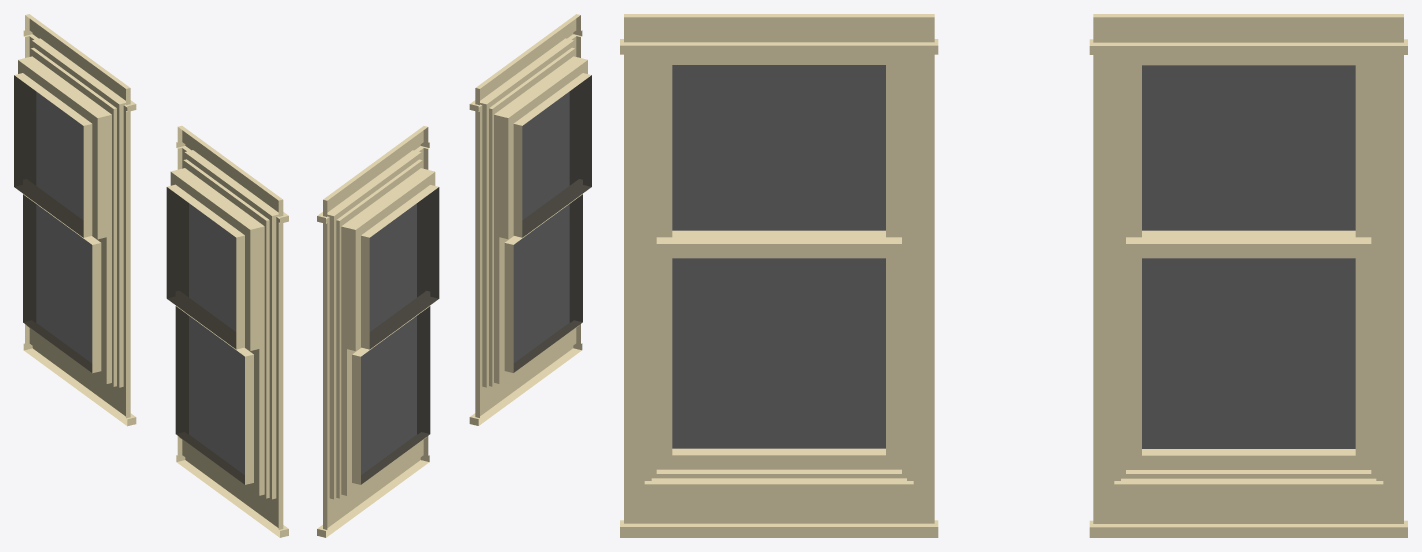
3 views of the same model, side by side, from view 1: azimuth 30°, elevation 25°; view 2: azimuth 150°, elevation 25°; view 3: azimuth 270°, elevation 25° (orthographic). The views are drawn at different scales.
Parts seen in each view (by area): view 1: Mesh2_ske3982_2_Model; view 2: Mesh2_ske3982_2_Model; view 3: Mesh2_ske3982_2_Model.
Boxes of the visible parts, bbox=[...] form: Mesh2_ske3982_2_Model: bbox=[14, 14, 288, 537]; Mesh2_ske3982_2_Model: bbox=[317, 14, 591, 537]; Mesh2_ske3982_2_Model: bbox=[620, 14, 1407, 537].
Bounding box in the file's own units: 0.1109 × 0.9999 × 1.38.
